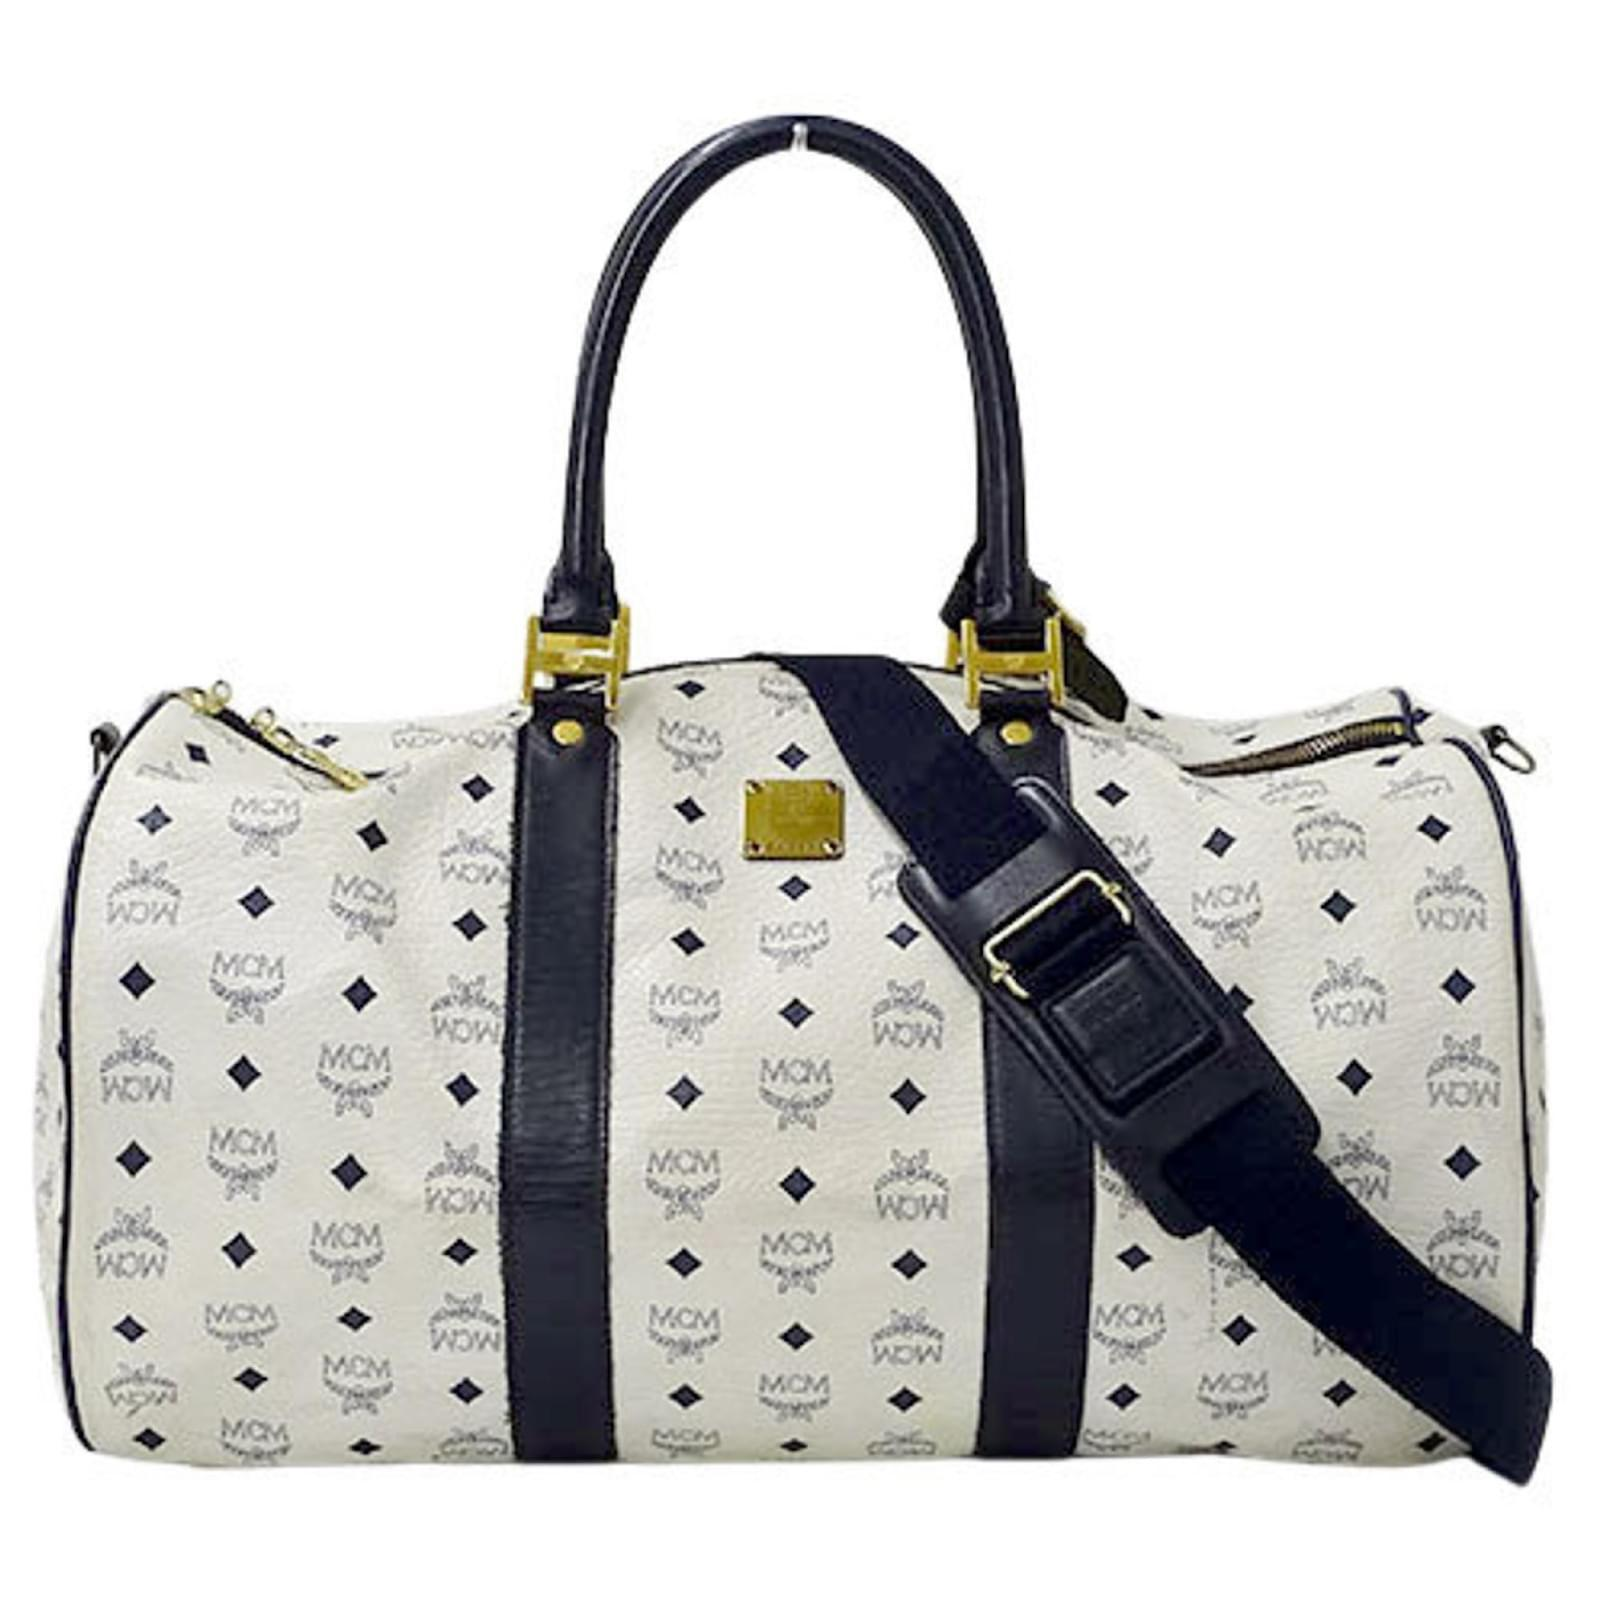MCM: (67, 667, 1550, 1493)
